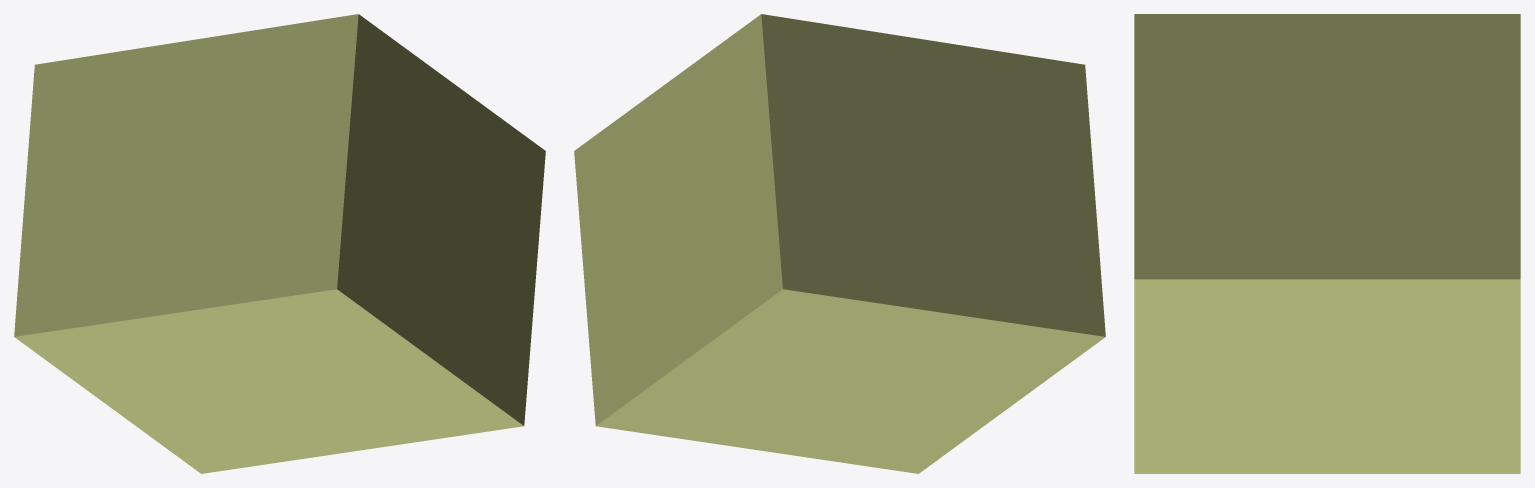
The picture shows the model from 3 angles, left to right: view 1: azimuth 30°, elevation 25°; view 2: azimuth 150°, elevation 25°; view 3: azimuth 270°, elevation 25°; orthographic projection. The views are drawn at different scales.
Visible parts, largest first — view 1: 0_1_3_2_2_1_0_2_0_1_3; view 2: 0_1_3_2_2_1_0_2_0_1_3; view 3: 0_1_3_2_2_1_0_2_0_1_3.
Part boxes in pixels (x1=…): 0_1_3_2_2_1_0_2_0_1_3: x1=14, y1=14, x2=545, y2=473; 0_1_3_2_2_1_0_2_0_1_3: x1=574, y1=14, x2=1105, y2=473; 0_1_3_2_2_1_0_2_0_1_3: x1=1134, y1=14, x2=1520, y2=473.
Size of the model in its own units: 9.56 by 7.91 by 9.
